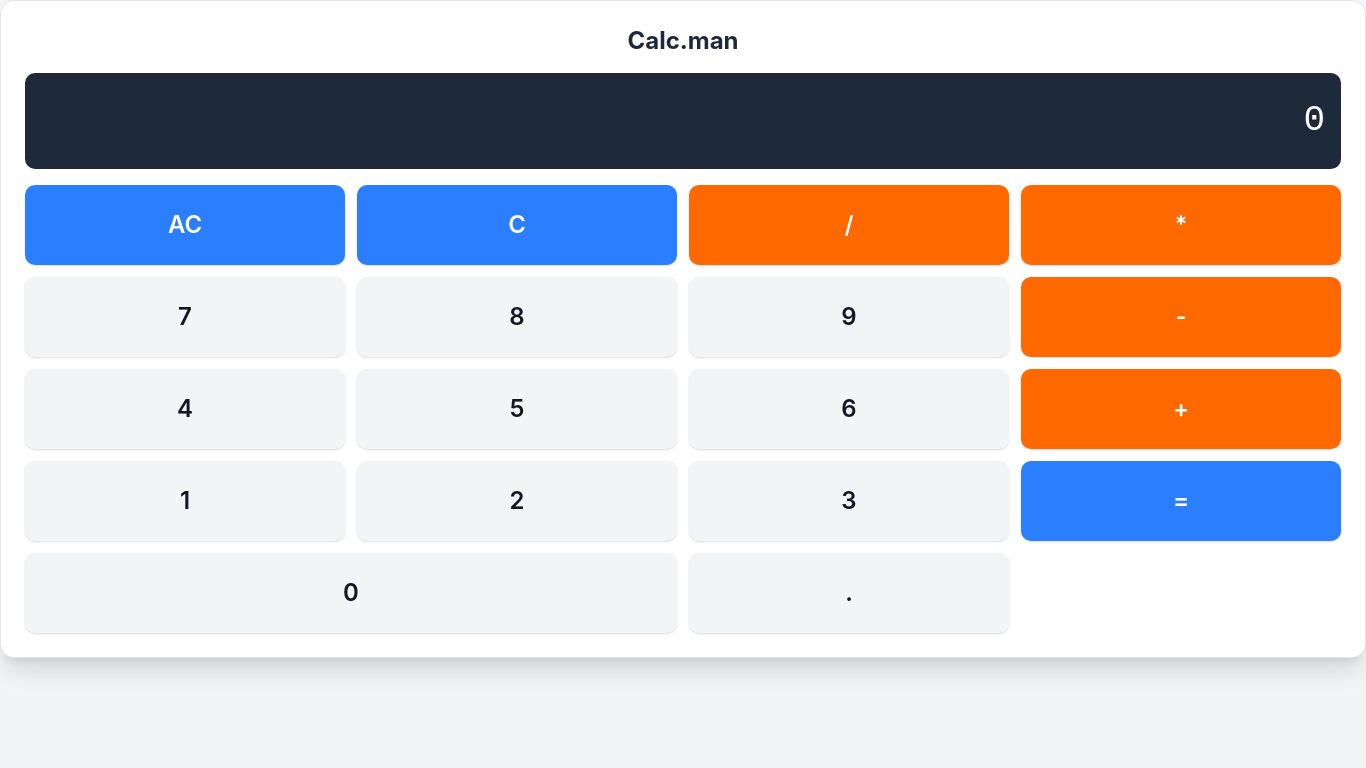
Scenario: Calculator Component › should reset to "0" when AC button is clicked
Expected: the element showing "0" is shown, top-left (25, 73), bottom-right (1341, 169)
Click the button "1".
click(185, 501)  # box top-left (25, 461), bottom-right (345, 541)
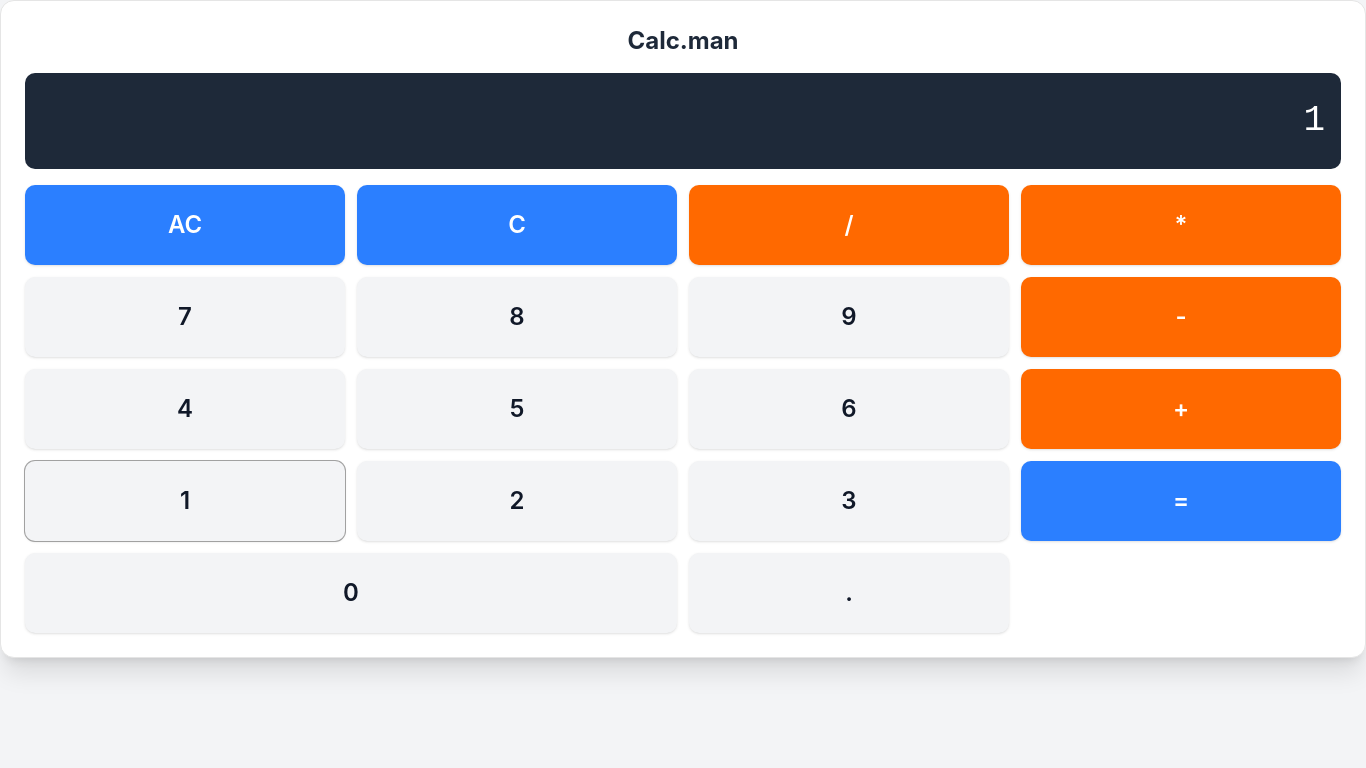
Click the button "2".
click(517, 501)  # box top-left (357, 461), bottom-right (677, 541)
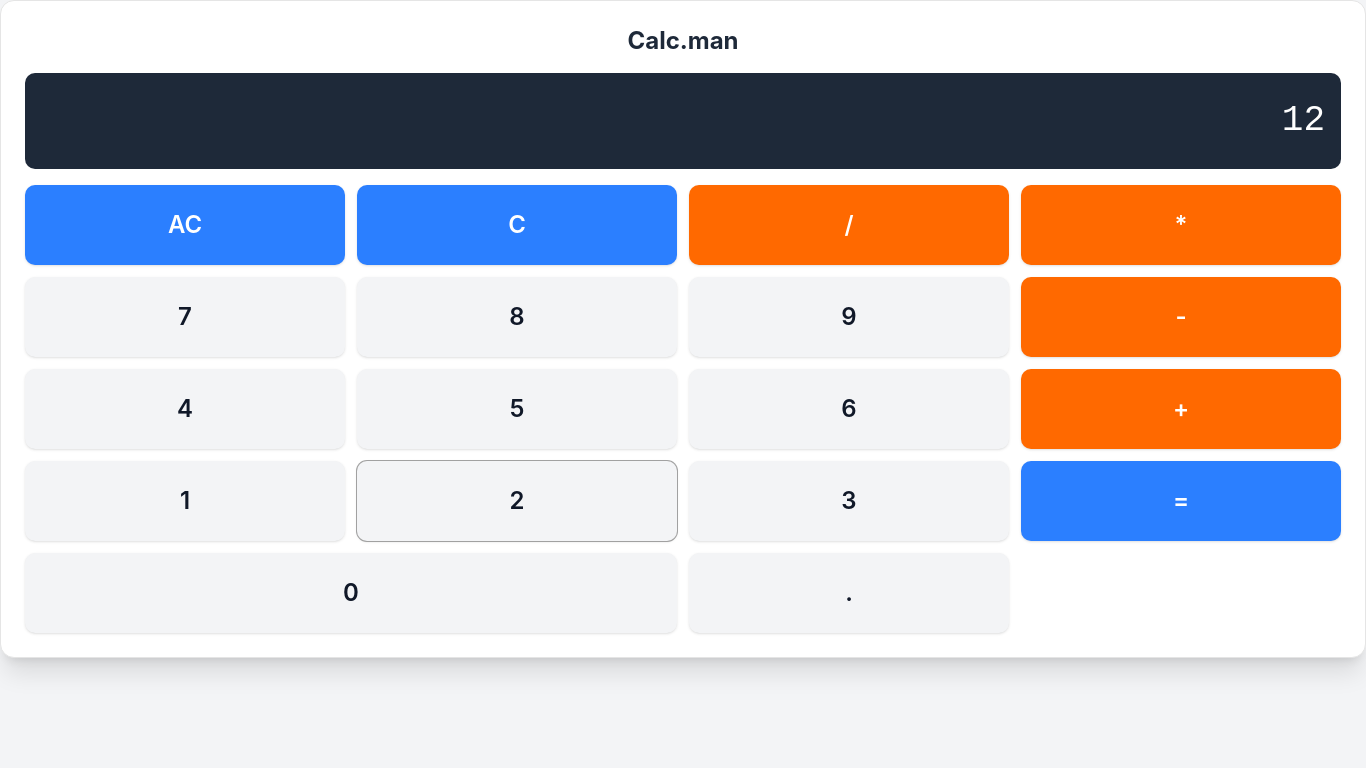
Click the button "3".
click(849, 501)  # box top-left (689, 461), bottom-right (1009, 541)
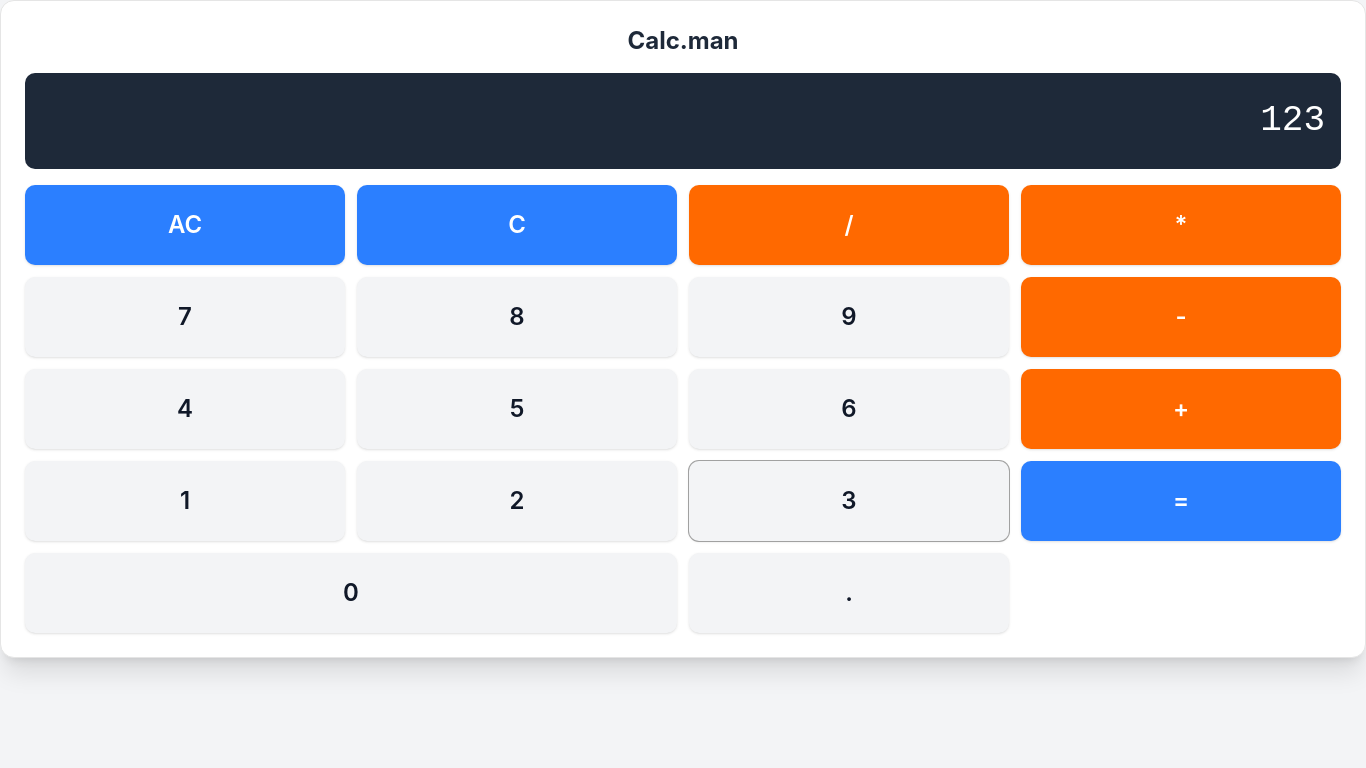
Now the element showing "123" is shown, box top-left (25, 73), bottom-right (1341, 169)
# AC 버튼 클릭
Click the button with aria-label "All Clear".
click(185, 225)  # box top-left (25, 185), bottom-right (345, 265)
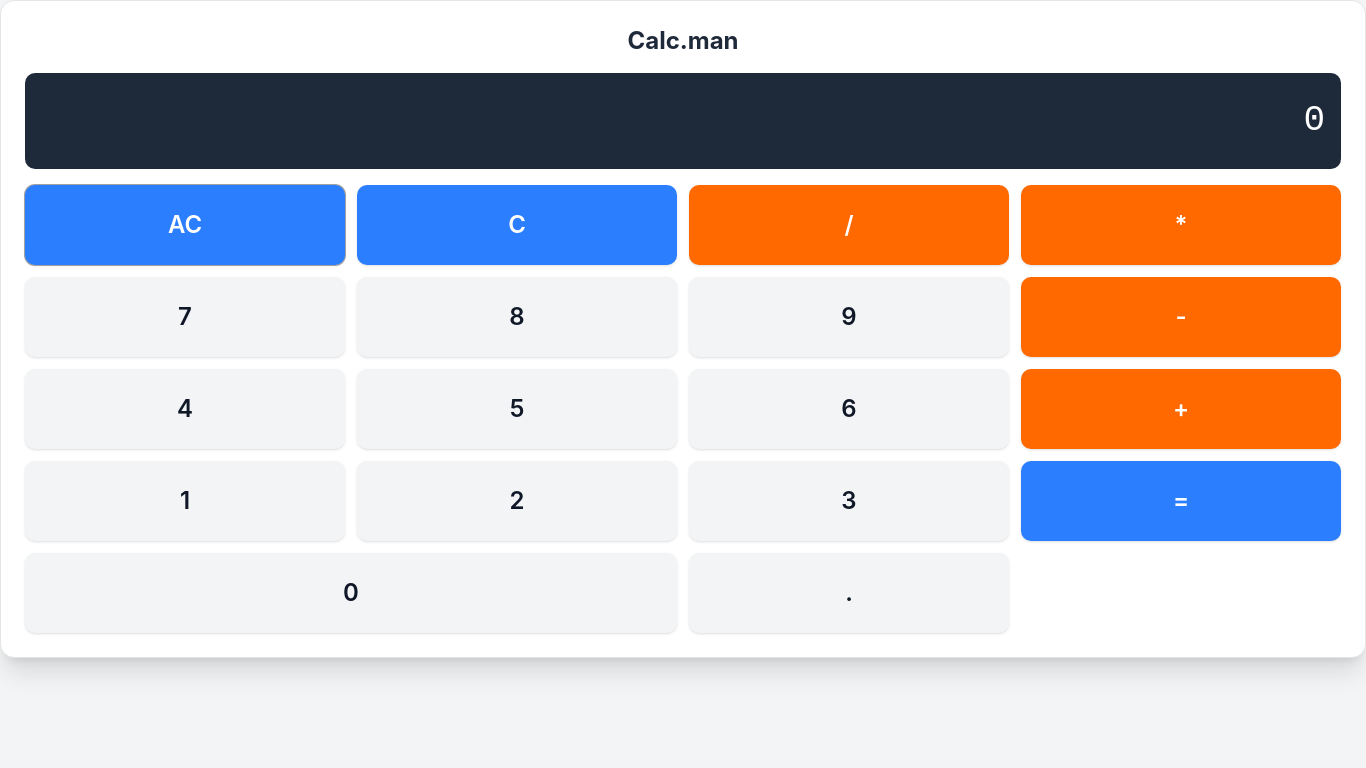
Now the element showing "0" is shown, box top-left (25, 73), bottom-right (1341, 169)
